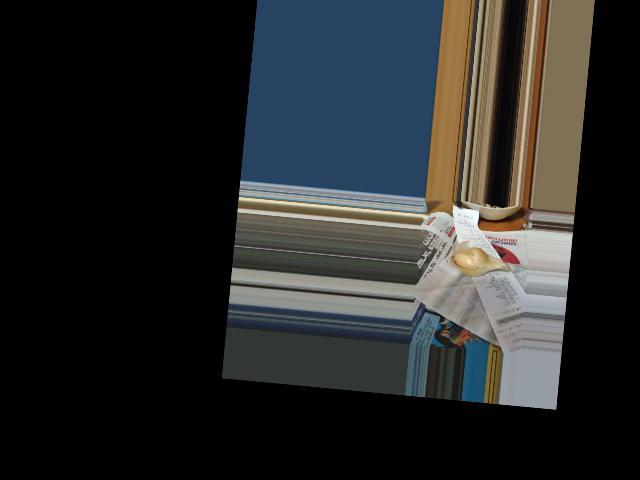onion: (449, 244, 506, 279)
